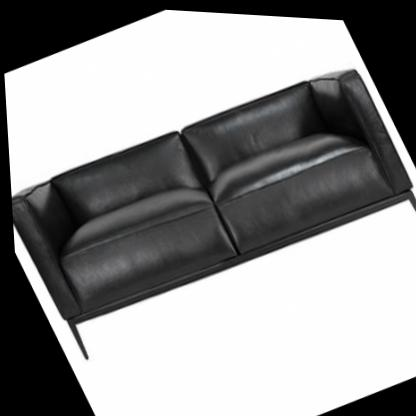Sofa: (2, 34, 416, 381)
